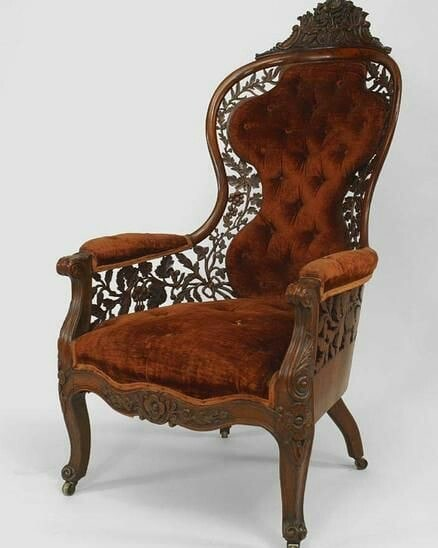Carving Chair: (75, 37, 374, 516)
